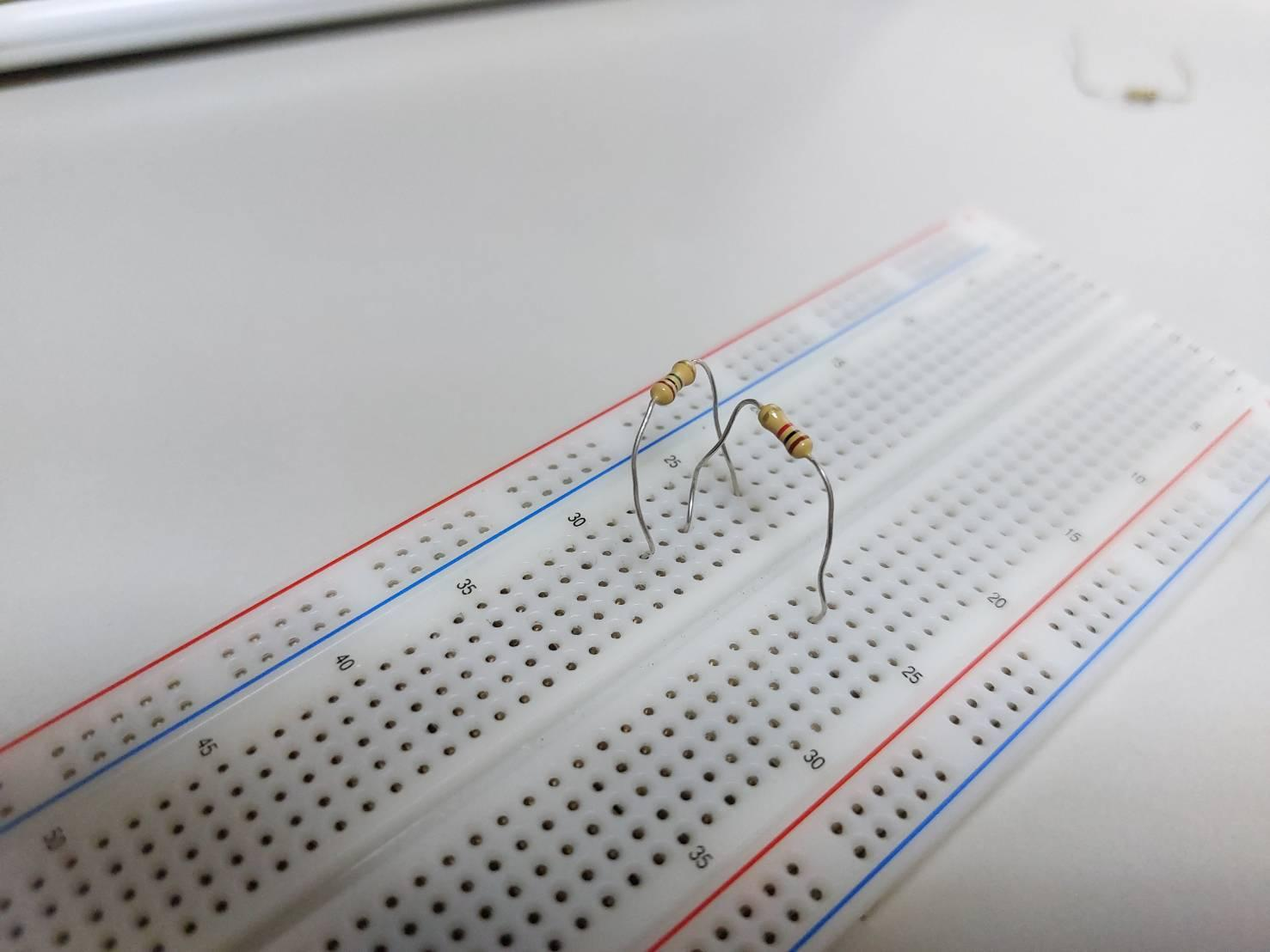resistor: (758, 400, 815, 461), (647, 354, 696, 405)
